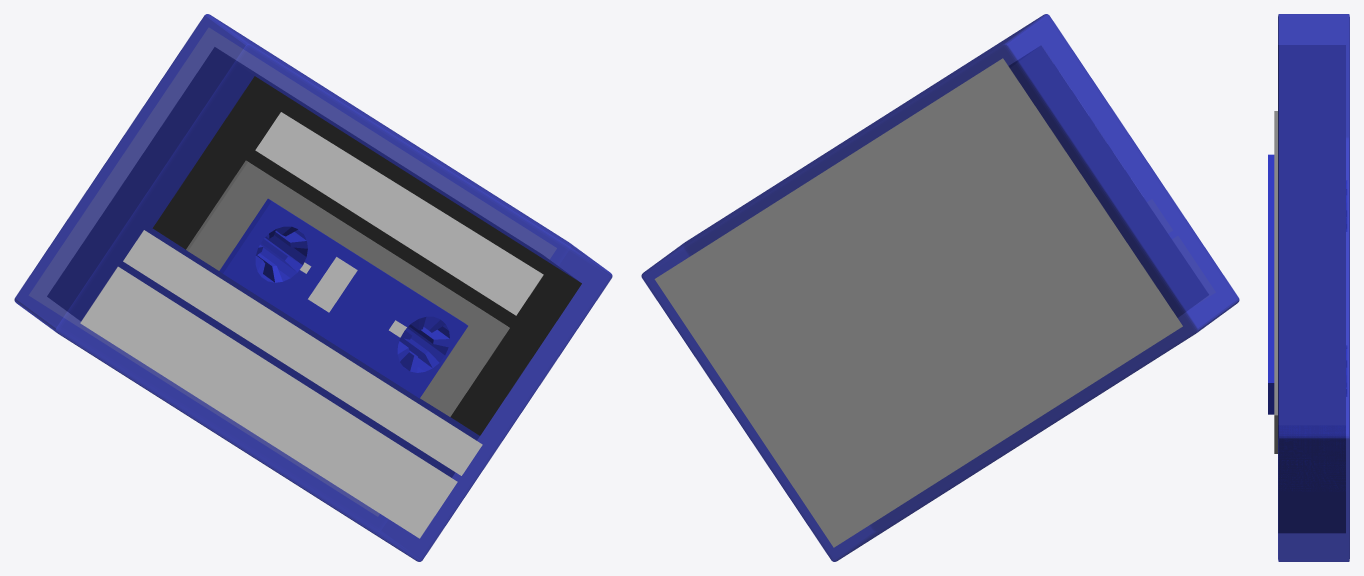
Rendered from Cassette.fbx.
The picture shows the model from 3 angles, left to right: view 1: azimuth 30°, elevation 25°; view 2: azimuth 150°, elevation 25°; view 3: azimuth 270°, elevation 25°; orthographic projection. The views are drawn at different scales.
Visible parts, largest first — view 1: Cassette; view 2: Cassette; view 3: Cassette.
Part boxes in pixels (<box>): Cassette: <box>14,14,612,561</box>; Cassette: <box>641,14,1239,561</box>; Cassette: <box>1268,14,1349,561</box>.
Bounding box in the file's own units: 186 × 178 × 27.78.
